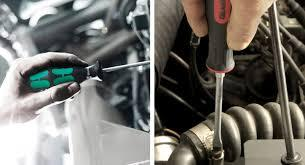screwdriver: (206, 0, 233, 150), (28, 58, 150, 91)
